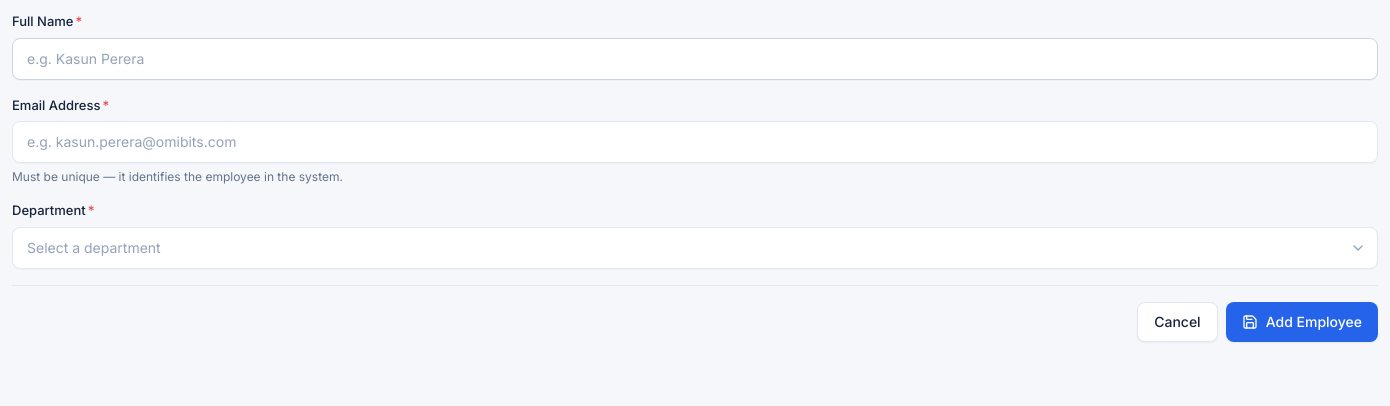
Scenario: EmployeeForm validation › shows field specific messages when submitted empty
The width and height of the screenshot is (1390, 406).
Click the button "Add Employee": (1302, 322) [1226,302,1378,342]
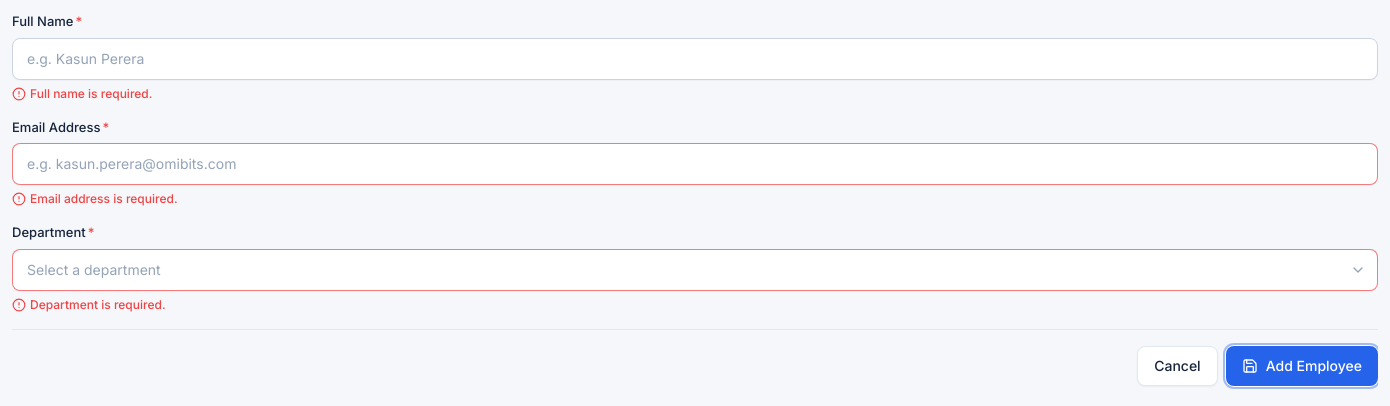
Check: the text "Full name is required." is shown, box [12,86,152,100]
Check: the text "Email address is required." is shown, box [12,191,178,206]
Check: the text "Department is required." is shown, box [12,296,166,312]
